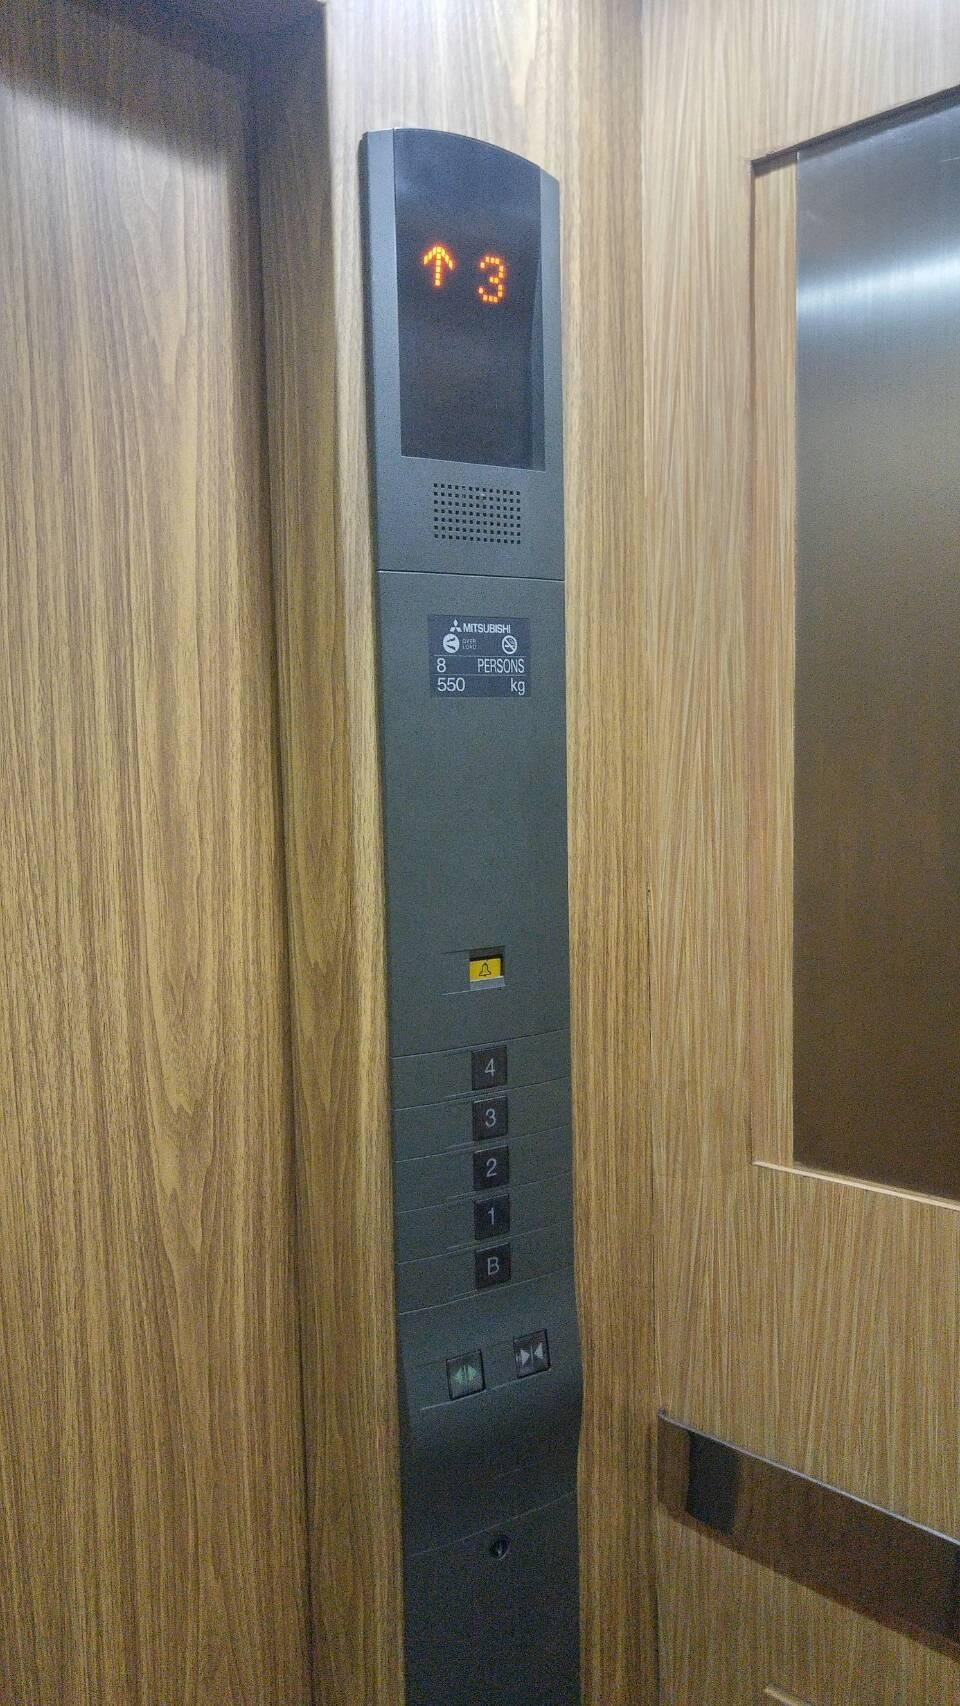1: (471, 1190, 511, 1241)
2: (469, 1141, 511, 1192)
3: (469, 1092, 511, 1142)
4: (469, 1042, 508, 1090)
B: (474, 1240, 513, 1290)
alarm: (465, 946, 504, 988)
close: (509, 1326, 552, 1381)
led: (384, 124, 547, 475)
open: (443, 1346, 488, 1404)
